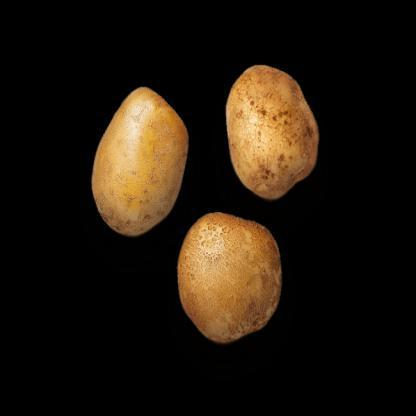potato: (155, 192, 292, 354), (200, 54, 332, 200), (89, 74, 192, 240)
